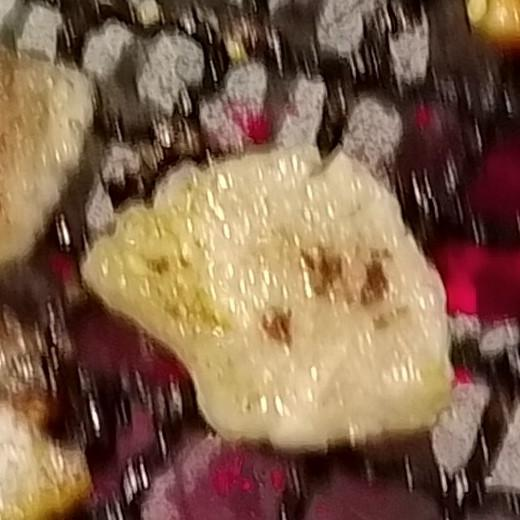Undercooked: (81, 143, 454, 457)
